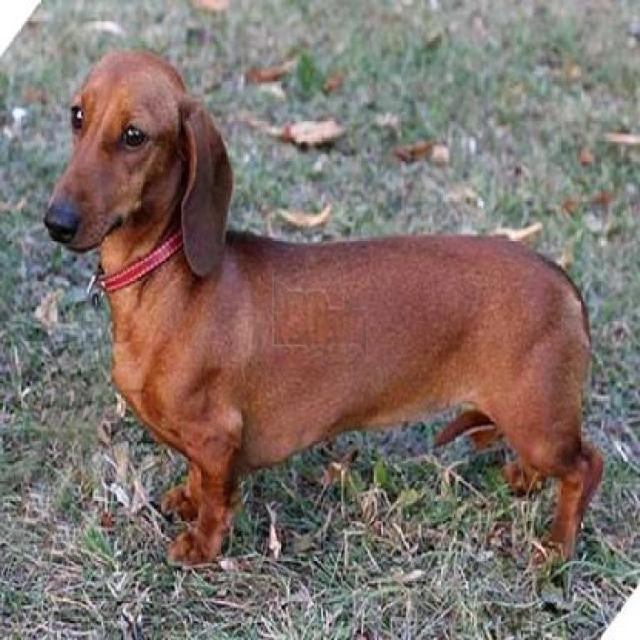Dog: (41, 44, 604, 576)
